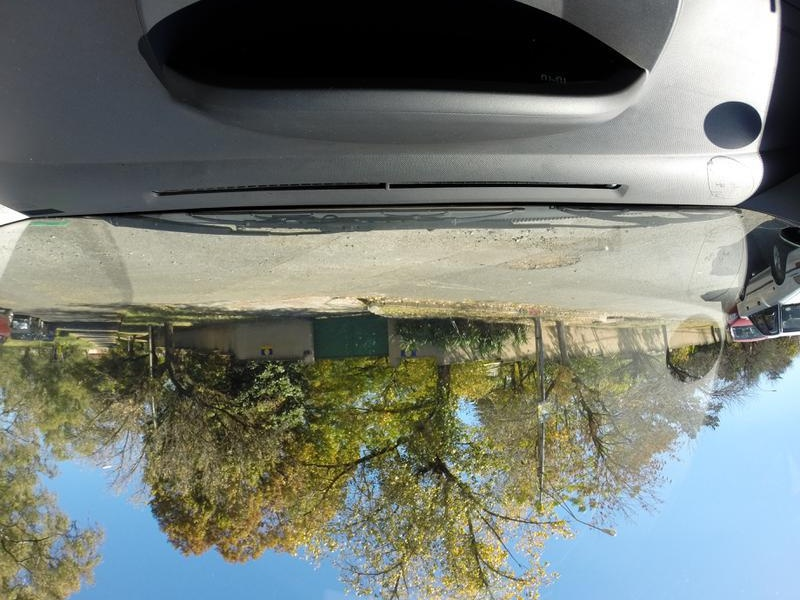pothole: (489, 249, 587, 272), (519, 231, 615, 254)
